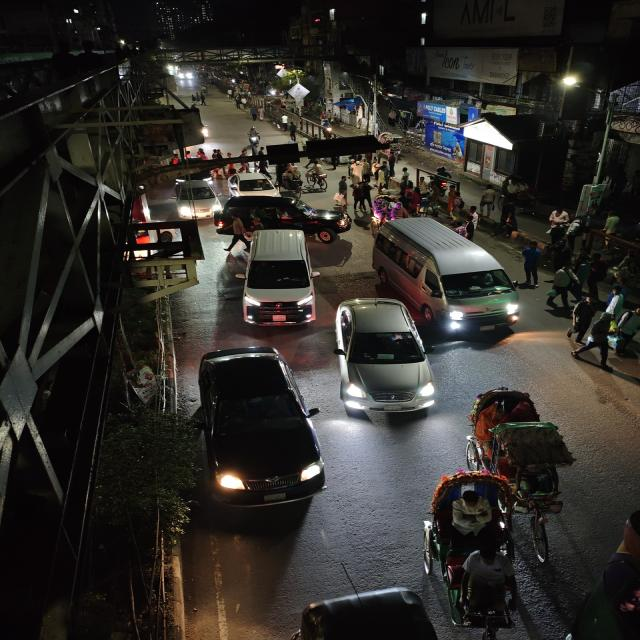bicycle: (303, 160, 329, 192)
car: (191, 342, 327, 518), (368, 213, 522, 335), (332, 295, 439, 420), (231, 225, 323, 330), (223, 195, 338, 240), (173, 179, 221, 219), (226, 171, 281, 198)
cng: (280, 582, 448, 640)
motorcycle: (246, 126, 263, 146)
pedestrian: (566, 310, 629, 370), (567, 296, 598, 340), (547, 266, 576, 310), (584, 252, 610, 298), (518, 241, 544, 285), (497, 199, 521, 239), (546, 222, 572, 248), (352, 181, 372, 213), (463, 205, 483, 237), (447, 186, 465, 220), (479, 186, 497, 216), (347, 160, 364, 182), (337, 174, 352, 198), (333, 188, 350, 208), (198, 90, 209, 106)
rickshaw: (464, 383, 581, 542), (430, 465, 522, 631), (366, 192, 406, 230)
